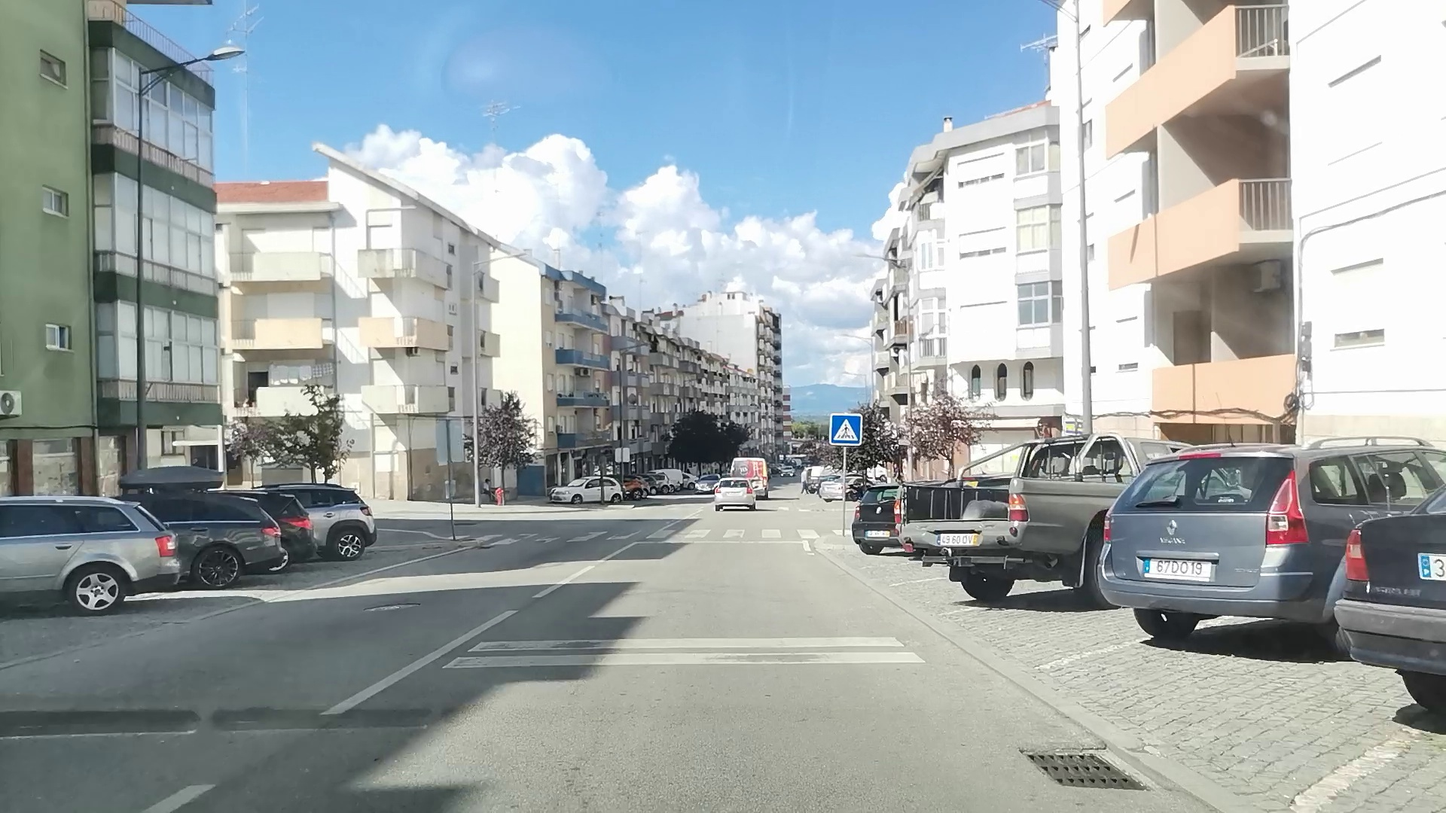Stairs: (473, 524, 833, 543)
